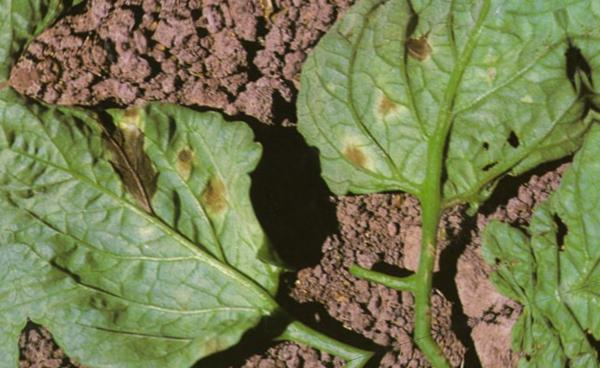Tomato mold leaf: (0, 35, 323, 368), (263, 0, 600, 239)
